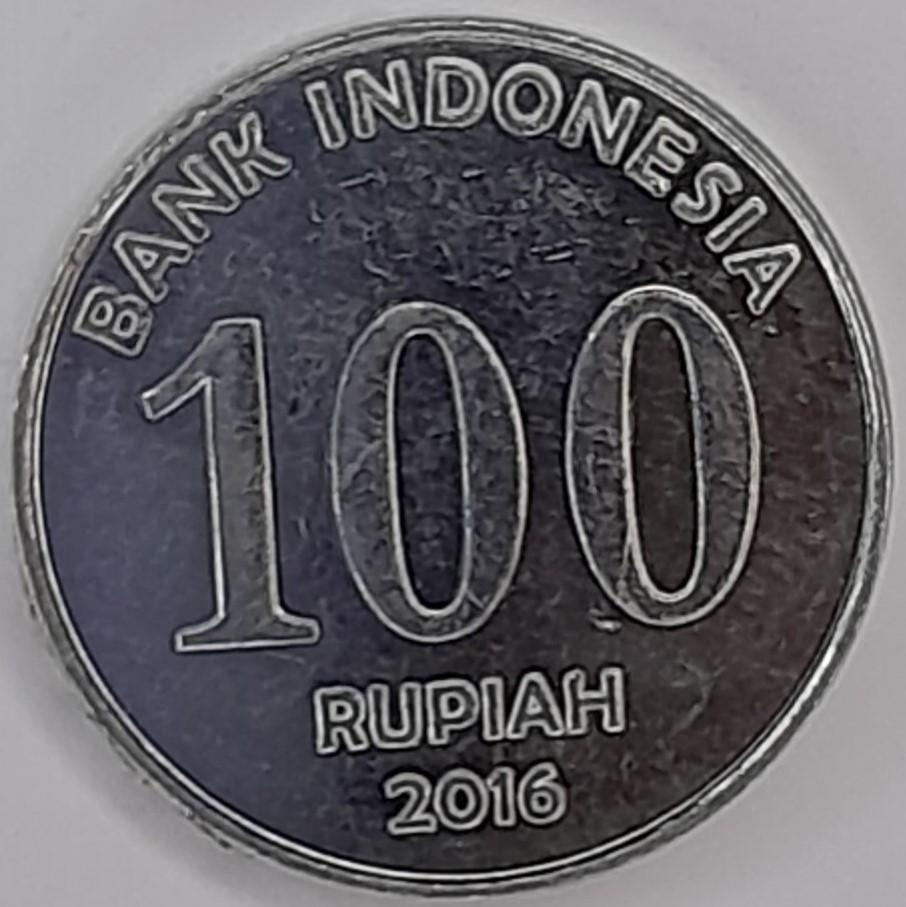coin_100_e2016: (6, 9, 899, 899)
